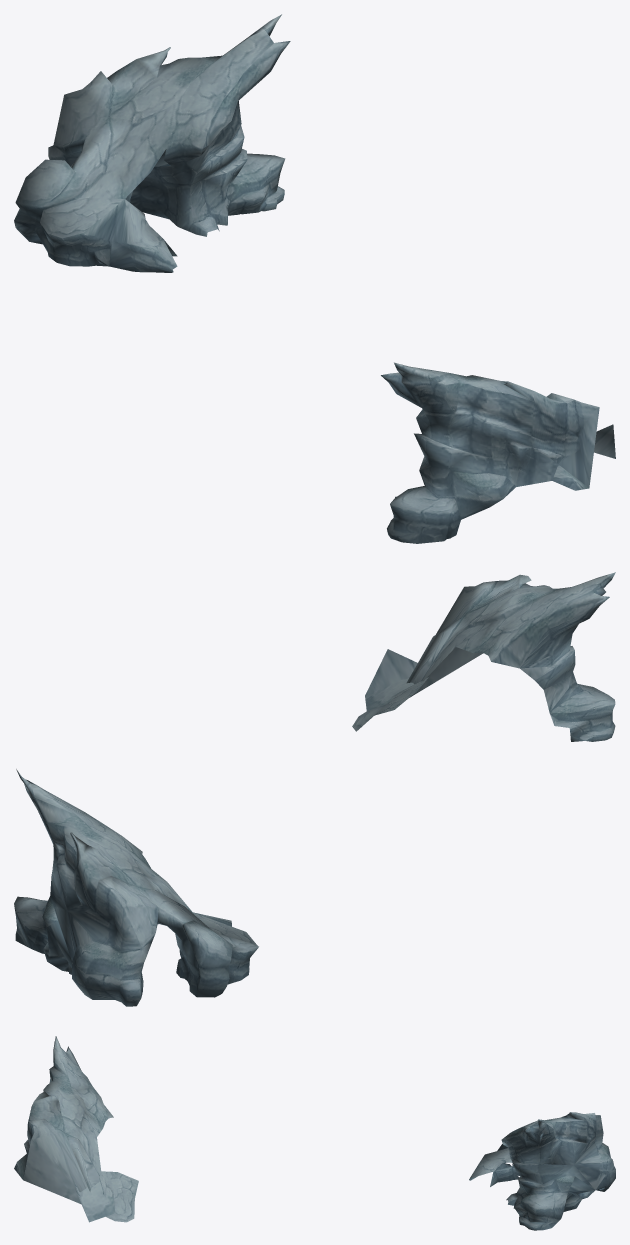
Rendered from boss2_wujian_1.fbx.
3 views of the same model, one above another, from view 1: azimuth 30°, elevation 25°; view 2: azimuth 150°, elevation 25°; view 3: azimuth 270°, elevation 25° (orthographic). The views are drawn at different scales.
Parts seen in each view (by area): view 1: boss2_wujian_1; view 2: boss2_wujian_1; view 3: boss2_wujian_1.
Part boxes in pixels (x1,y1,x2,y2): boss2_wujian_1: (14, 14, 615, 543); boss2_wujian_1: (14, 572, 615, 1006); boss2_wujian_1: (14, 1036, 615, 1230).
Size of the model in its own units: 1655 by 1052 by 4959.
